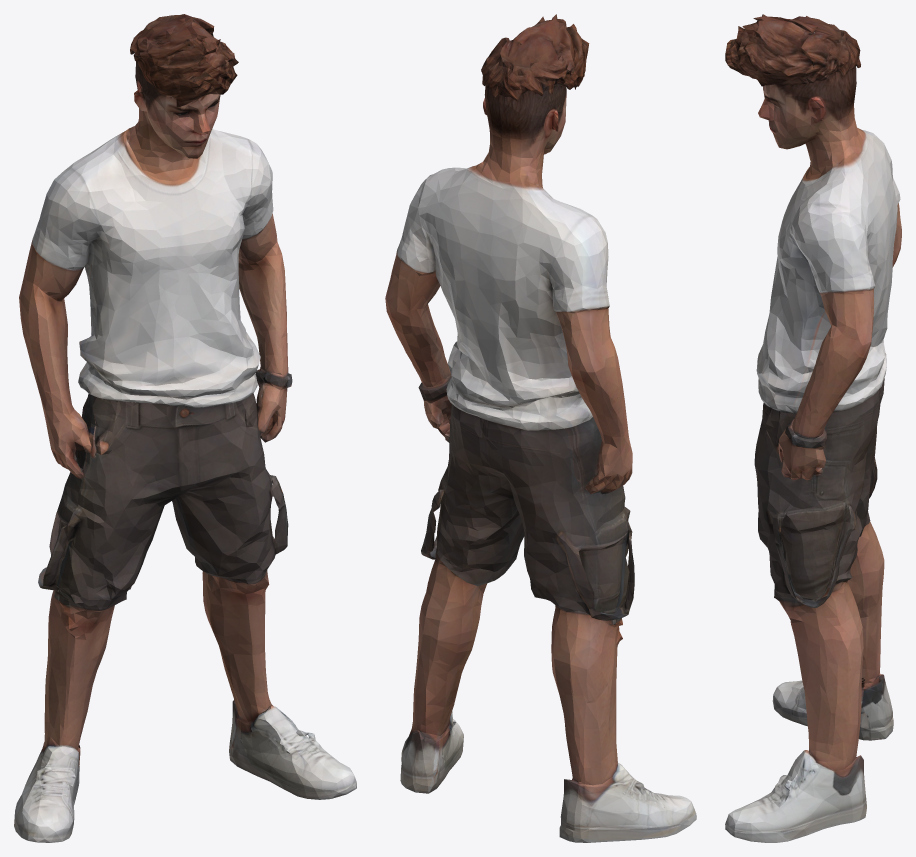
The model's file is a_guy_man_dude_-_character.glb.
3 renders of one model, left to right at view 1: azimuth 30°, elevation 25°; view 2: azimuth 150°, elevation 25°; view 3: azimuth 270°, elevation 25°, orthographic. The views are drawn at different scales.
Parts seen in each view (by area): view 1: temp; view 2: temp; view 3: temp.
Boxes of the visible parts, bbox=[...] form: temp: bbox=[14, 14, 356, 842]; temp: bbox=[385, 14, 696, 842]; temp: bbox=[725, 14, 901, 842].
Size of the model in its own units: 0.8062 by 1.98 by 0.4177.
Materials: 1 (1 with a texture image).
